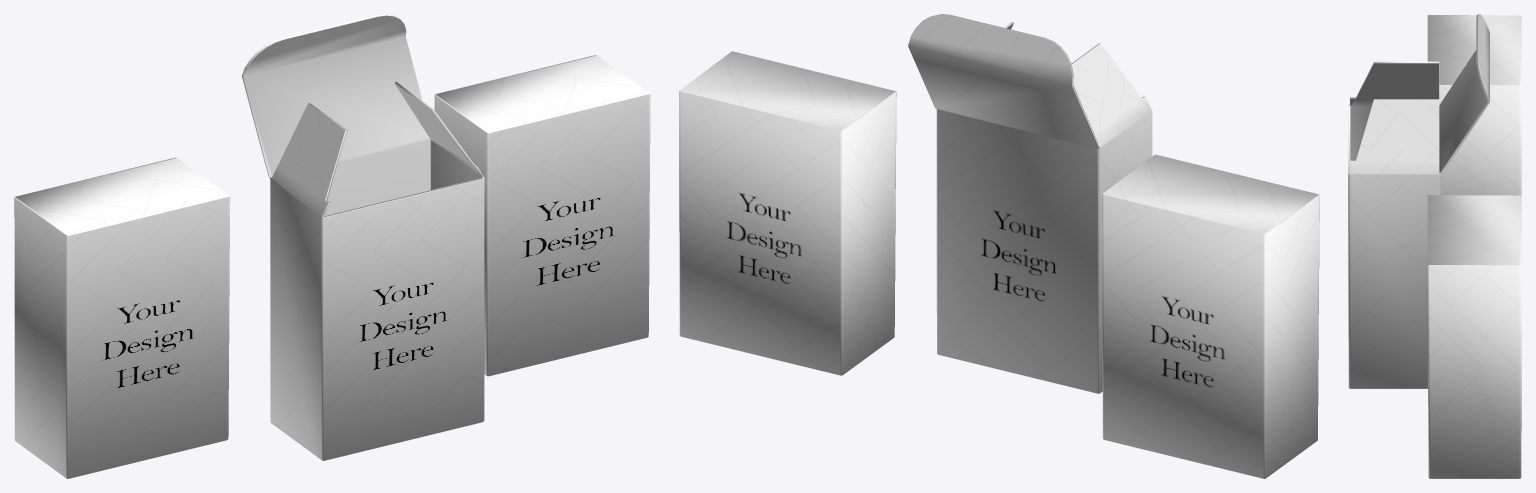
File: Folding A-5.glb
The picture shows the model from 3 angles, left to right: view 1: azimuth 30°, elevation 25°; view 2: azimuth 150°, elevation 25°; view 3: azimuth 270°, elevation 25°; orthographic projection. The views are drawn at different scales.
Parts seen in each view (by area): view 1: Box4.006, Box4.002, Box4.003, Box4.005, Box4.004; view 2: Box4.002, Box4.006, Box4.003; view 3: Box4.003, Box4.002, Box4.006, Box4.005, Box4.004.
Boxes of the visible parts, x1,y1,x2,y2 form: Box4.006: [14, 157, 230, 478]; Box4.002: [268, 103, 484, 460]; Box4.003: [434, 55, 650, 376]; Box4.005: [243, 15, 481, 216]; Box4.004: [242, 14, 483, 217]; Box4.002: [908, 14, 1152, 393]; Box4.006: [1102, 154, 1319, 478]; Box4.003: [679, 51, 896, 375]; Box4.003: [1427, 195, 1521, 478]; Box4.002: [1348, 14, 1489, 388]; Box4.006: [1427, 15, 1521, 195]; Box4.005: [1350, 15, 1487, 172]; Box4.004: [1348, 14, 1489, 173].
Bounding box in the file's own units: 4.38 × 2.59 × 1.28.
Materials: 2 (1 with a texture image).
